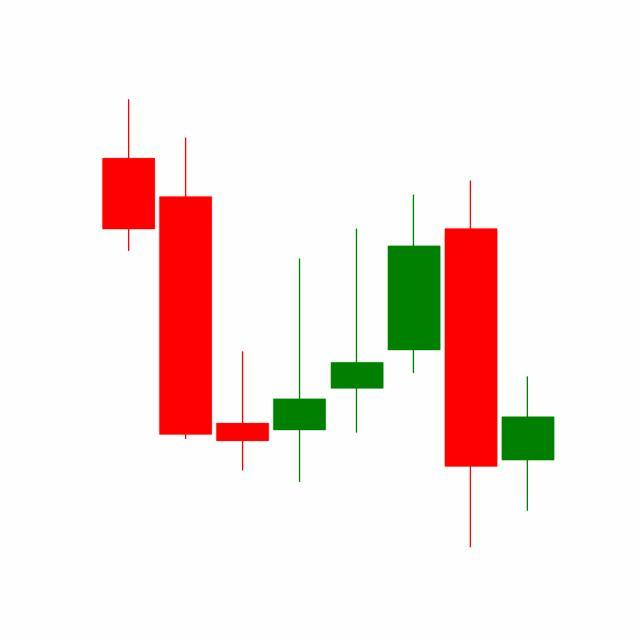Three Line Strike: (271, 176, 501, 549)
